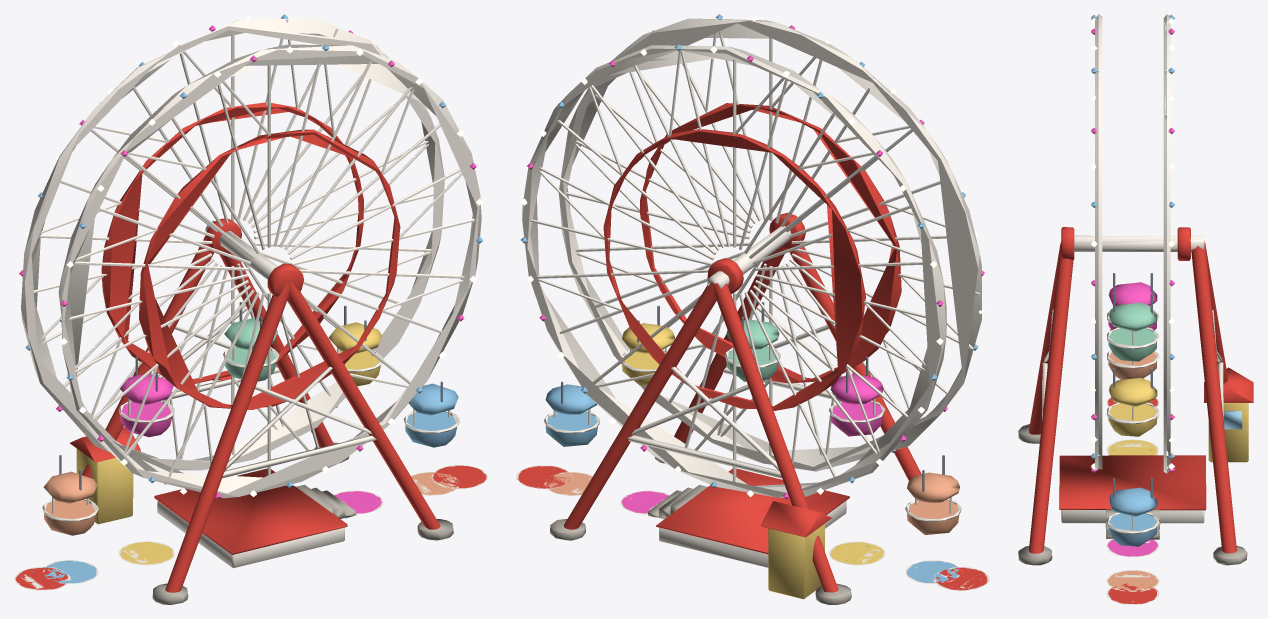
Rendered from ferris_wheel.glb.
The picture shows the model from 3 angles, left to right: view 1: azimuth 30°, elevation 25°; view 2: azimuth 150°, elevation 25°; view 3: azimuth 270°, elevation 25°; orthographic projection. The views are drawn at different scales.
Parts seen in each view (by area): view 1: wheel.007, ferris_wheel.003, gond5.003, gond1.003, gond4.003, gond0.003 (×2), gond2.003, gond3.003, gond8.003, gond7.003, gond10.003, gond11.003; view 2: wheel.007, ferris_wheel.003, gond5.003, gond1.003, gond4.003, gond0.003 (×2), gond2.003, gond3.003, gond8.003, gond7.003, gond11.003, gond10.003; view 3: ferris_wheel.003, wheel.007, gond2.003, gond1.003, gond3.003, gond4.003, gond5.003, gond11.003, gond0.003, gond8.003, gond10.003.
Boxes of the visible parts, x1,y1,x2,y2 form: wheel.007: [19, 14, 482, 499]; ferris_wheel.003: [70, 218, 453, 604]; gond5.003: [42, 455, 98, 535]; gond1.003: [403, 381, 459, 447]; gond4.003: [118, 356, 175, 437]; gond0.003 (×2): [14, 465, 487, 590]; gond2.003: [328, 305, 383, 386]; gond3.003: [223, 302, 279, 381]; gond8.003: [118, 541, 174, 565]; gond7.003: [43, 560, 98, 583]; gond10.003: [334, 490, 383, 514]; gond11.003: [411, 472, 458, 495]; wheel.007: [520, 14, 984, 499]; ferris_wheel.003: [550, 212, 921, 604]; gond5.003: [905, 455, 961, 534]; gond1.003: [544, 381, 600, 446]; gond4.003: [829, 356, 885, 436]; gond0.003 (×2): [516, 465, 989, 590]; gond2.003: [620, 305, 674, 385]; gond3.003: [724, 302, 780, 381]; gond8.003: [829, 541, 885, 565]; gond7.003: [905, 560, 961, 583]; gond11.003: [544, 472, 592, 495]; gond10.003: [620, 490, 669, 514]; ferris_wheel.003: [1018, 227, 1253, 565]; wheel.007: [1091, 14, 1174, 473]; gond2.003: [1107, 368, 1159, 436]; gond1.003: [1107, 478, 1159, 546]; gond3.003: [1107, 293, 1159, 361]; gond4.003: [1107, 273, 1159, 330]; gond5.003: [1107, 329, 1159, 379]; gond11.003: [1106, 570, 1159, 591]; gond0.003: [1106, 583, 1159, 604]; gond8.003: [1106, 439, 1158, 455]; gond10.003: [1106, 539, 1158, 557].
Bounding box in the file's own units: 14.75 × 14.92 × 6.87.
Materials: 1 (1 with a texture image).
